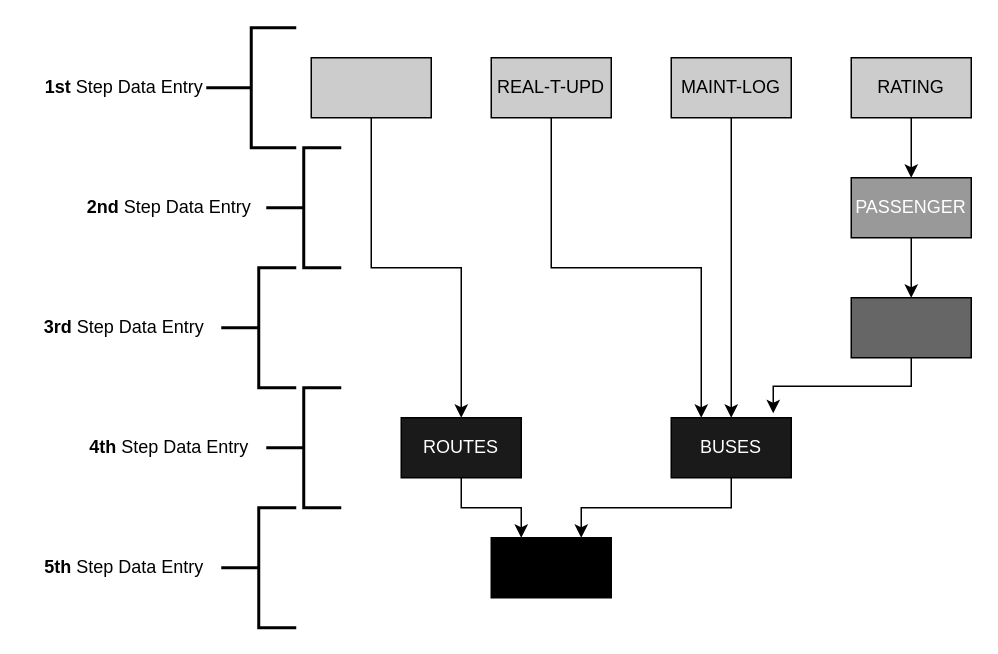
Image size: 998x654. Some labels were removed from this diagram. Each missing label, with the centre of its shape:
"BUS-COMP" goes at [550,567].
"DRIVERS" goes at [370,87].
"SEATS" goes at [910,327].
